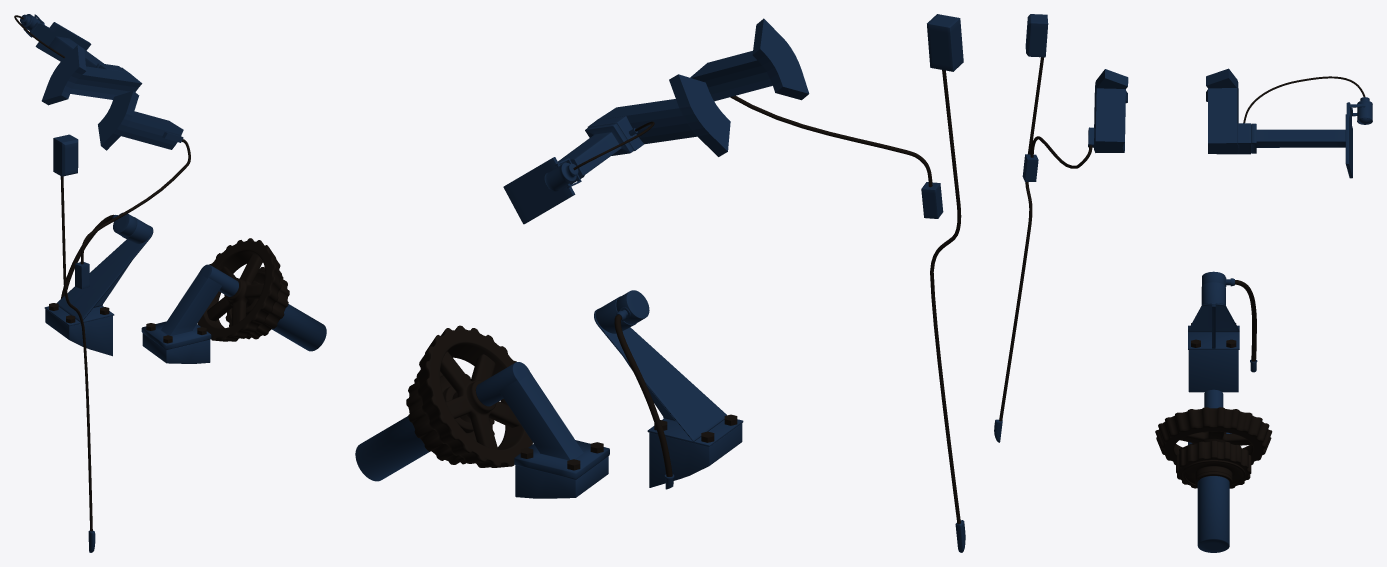
Rendered from ogs4.gltf.
The picture shows the model from 3 angles, left to right: view 1: azimuth 30°, elevation 25°; view 2: azimuth 150°, elevation 25°; view 3: azimuth 270°, elevation 25°; orthographic projection. The views are drawn at different scales.
Visible parts, largest first — view 1: decoration tour 2_PhysicalMaterial_0, decoration tour 5_PhysicalMaterial_0, decoration tour 3_PhysicalMaterial_0, decoration tour 6_PhysicalMaterial_0; view 2: decoration tour 2_PhysicalMaterial_0, decoration tour 3_PhysicalMaterial_0, decoration tour 5_PhysicalMaterial_0, decoration tour 6_PhysicalMaterial_0; view 3: decoration tour 2_PhysicalMaterial_0, decoration tour 6_PhysicalMaterial_0, decoration tour 5_PhysicalMaterial_0, decoration tour 3_PhysicalMaterial_0.
Boxes of the visible parts, box(x1,y1,x2,y2) form: decoration tour 2_PhysicalMaterial_0: box(141, 238, 326, 363); decoration tour 5_PhysicalMaterial_0: box(53, 91, 190, 552); decoration tour 3_PhysicalMaterial_0: box(44, 212, 153, 356); decoration tour 6_PhysicalMaterial_0: box(14, 14, 142, 105); decoration tour 2_PhysicalMaterial_0: box(355, 325, 609, 498); decoration tour 3_PhysicalMaterial_0: box(594, 290, 743, 489); decoration tour 5_PhysicalMaterial_0: box(690, 14, 965, 552); decoration tour 6_PhysicalMaterial_0: box(503, 74, 730, 224); decoration tour 2_PhysicalMaterial_0: box(1155, 389, 1272, 552); decoration tour 6_PhysicalMaterial_0: box(1206, 68, 1372, 178); decoration tour 5_PhysicalMaterial_0: box(994, 14, 1128, 442); decoration tour 3_PhysicalMaterial_0: box(1188, 271, 1257, 392).
Size of the model in its own units: 0.284 by 0.3128 by 0.2536.
